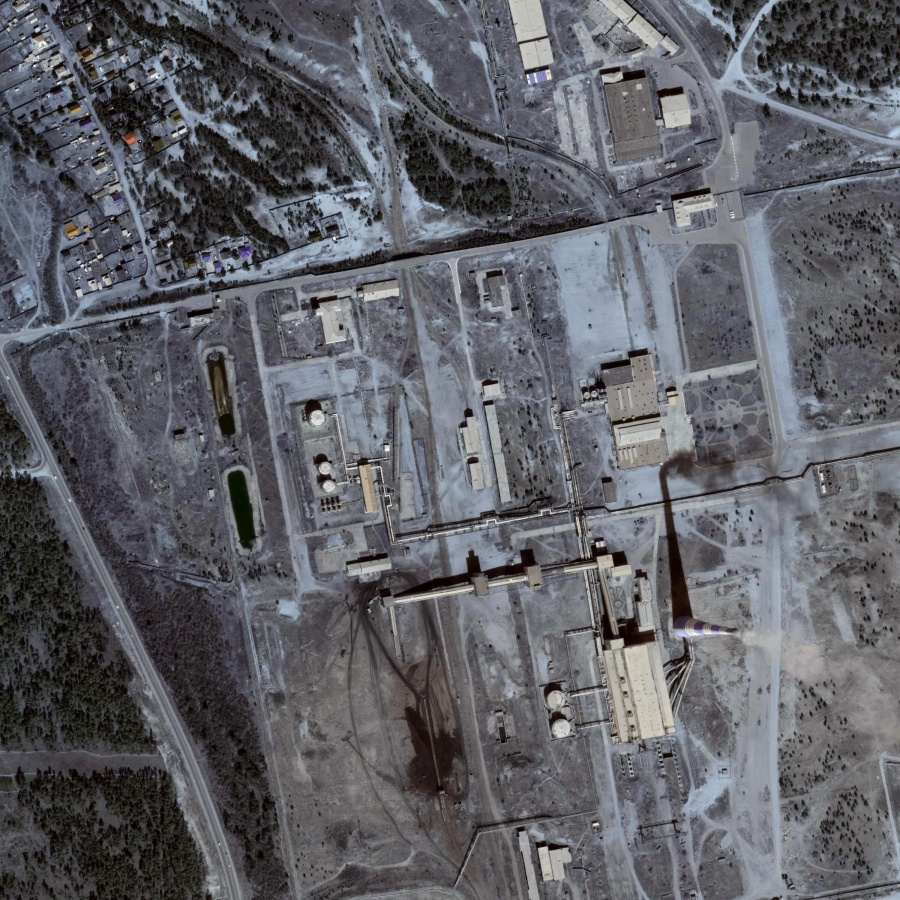PowerPlant: (284, 386, 762, 814)
